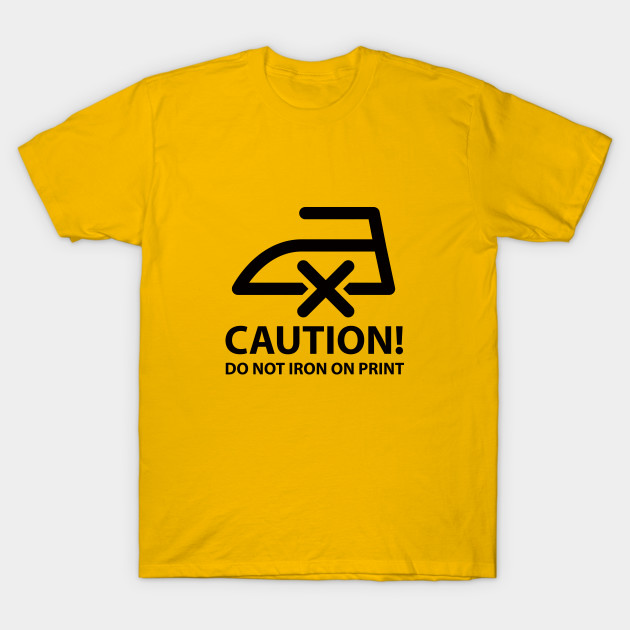do_not_iron: (232, 206, 396, 318)
